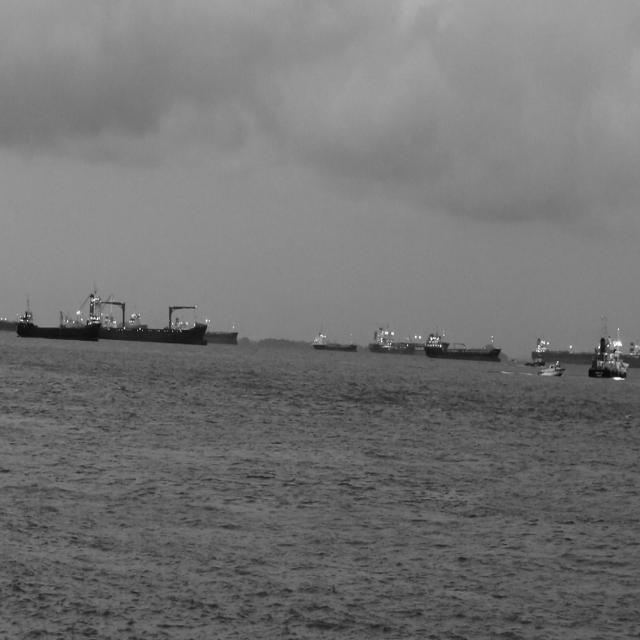ship: (58, 288, 210, 344), (17, 295, 101, 341), (588, 312, 628, 379), (367, 323, 449, 354), (423, 331, 501, 358), (532, 335, 600, 364), (312, 329, 357, 353), (205, 324, 239, 345), (621, 341, 640, 369), (535, 361, 564, 377), (0, 314, 18, 334), (522, 357, 546, 368), (510, 354, 520, 363)
